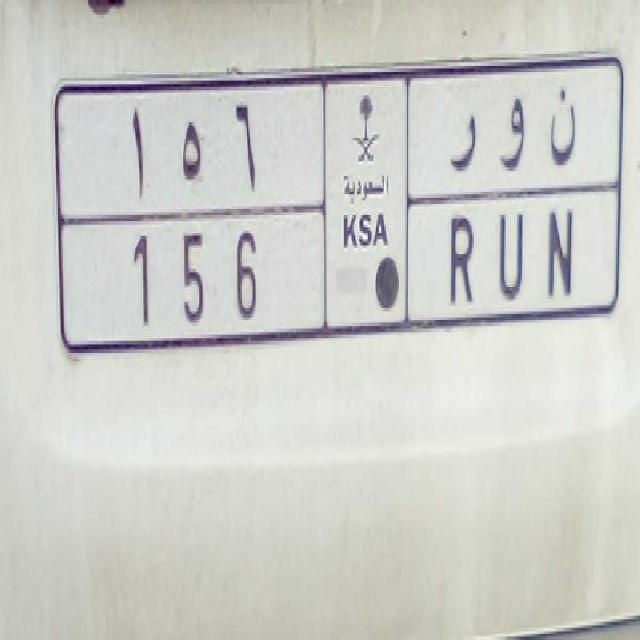license_plate: (92, 196, 598, 350)
